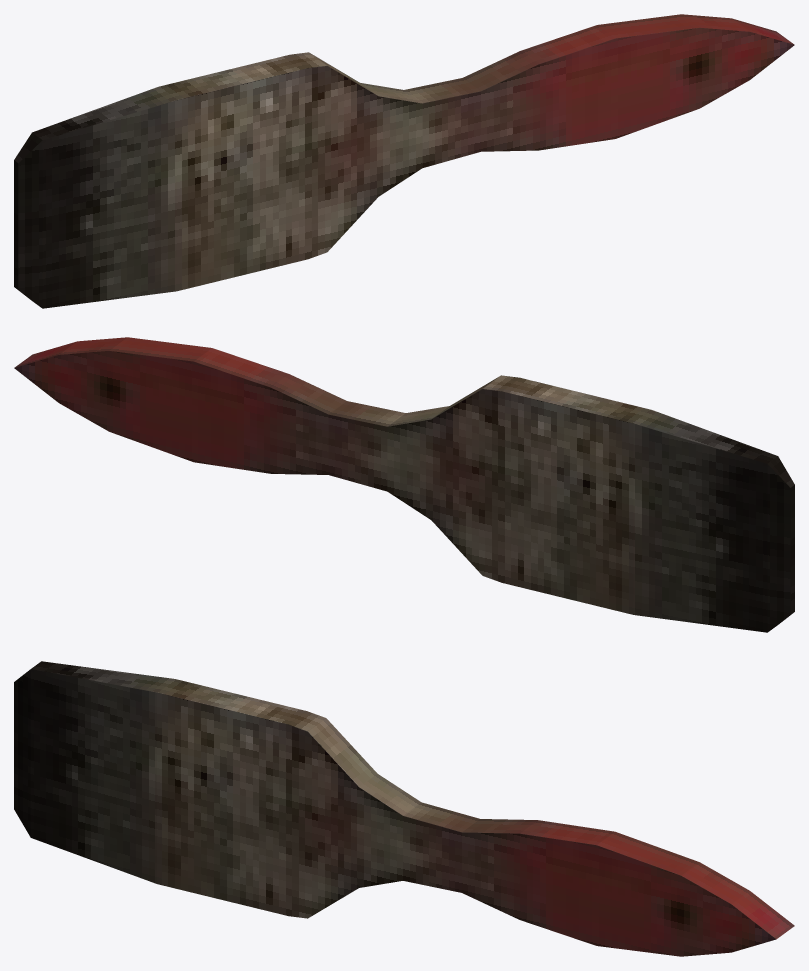
The model's file is shop-item-1043.glb.
3 views of the same model, one above another, from view 1: azimuth 30°, elevation 25°; view 2: azimuth 150°, elevation 25°; view 3: azimuth 330°, elevation 25° (orthographic).
Visible parts, largest first — view 1: paint_brush_mr_1; view 2: paint_brush_mr_1; view 3: paint_brush_mr_1.
Part boxes in pixels (x1=…): paint_brush_mr_1: x1=14, y1=14, x2=794, y2=308; paint_brush_mr_1: x1=14, y1=337, x2=794, y2=632; paint_brush_mr_1: x1=14, y1=661, x2=794, y2=956.
Size of the model in its own units: 0.36 by 0.0855 by 0.015.
1 material, 1 textured.
